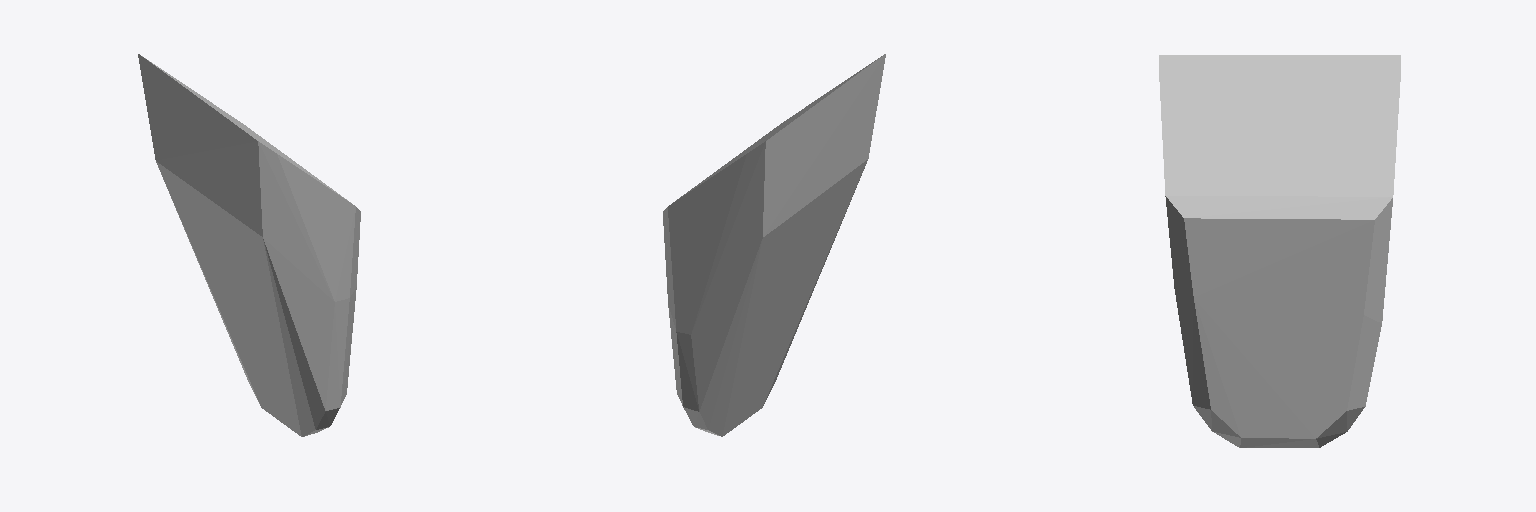
File: solo_12_base_collision_5.obj
3 renders of one model, left to right at view 1: azimuth 30°, elevation 25°; view 2: azimuth 150°, elevation 25°; view 3: azimuth 270°, elevation 25°, orthographic.
Bounding box in the file's own units: 0.0222 × 0.0633 × 0.04.